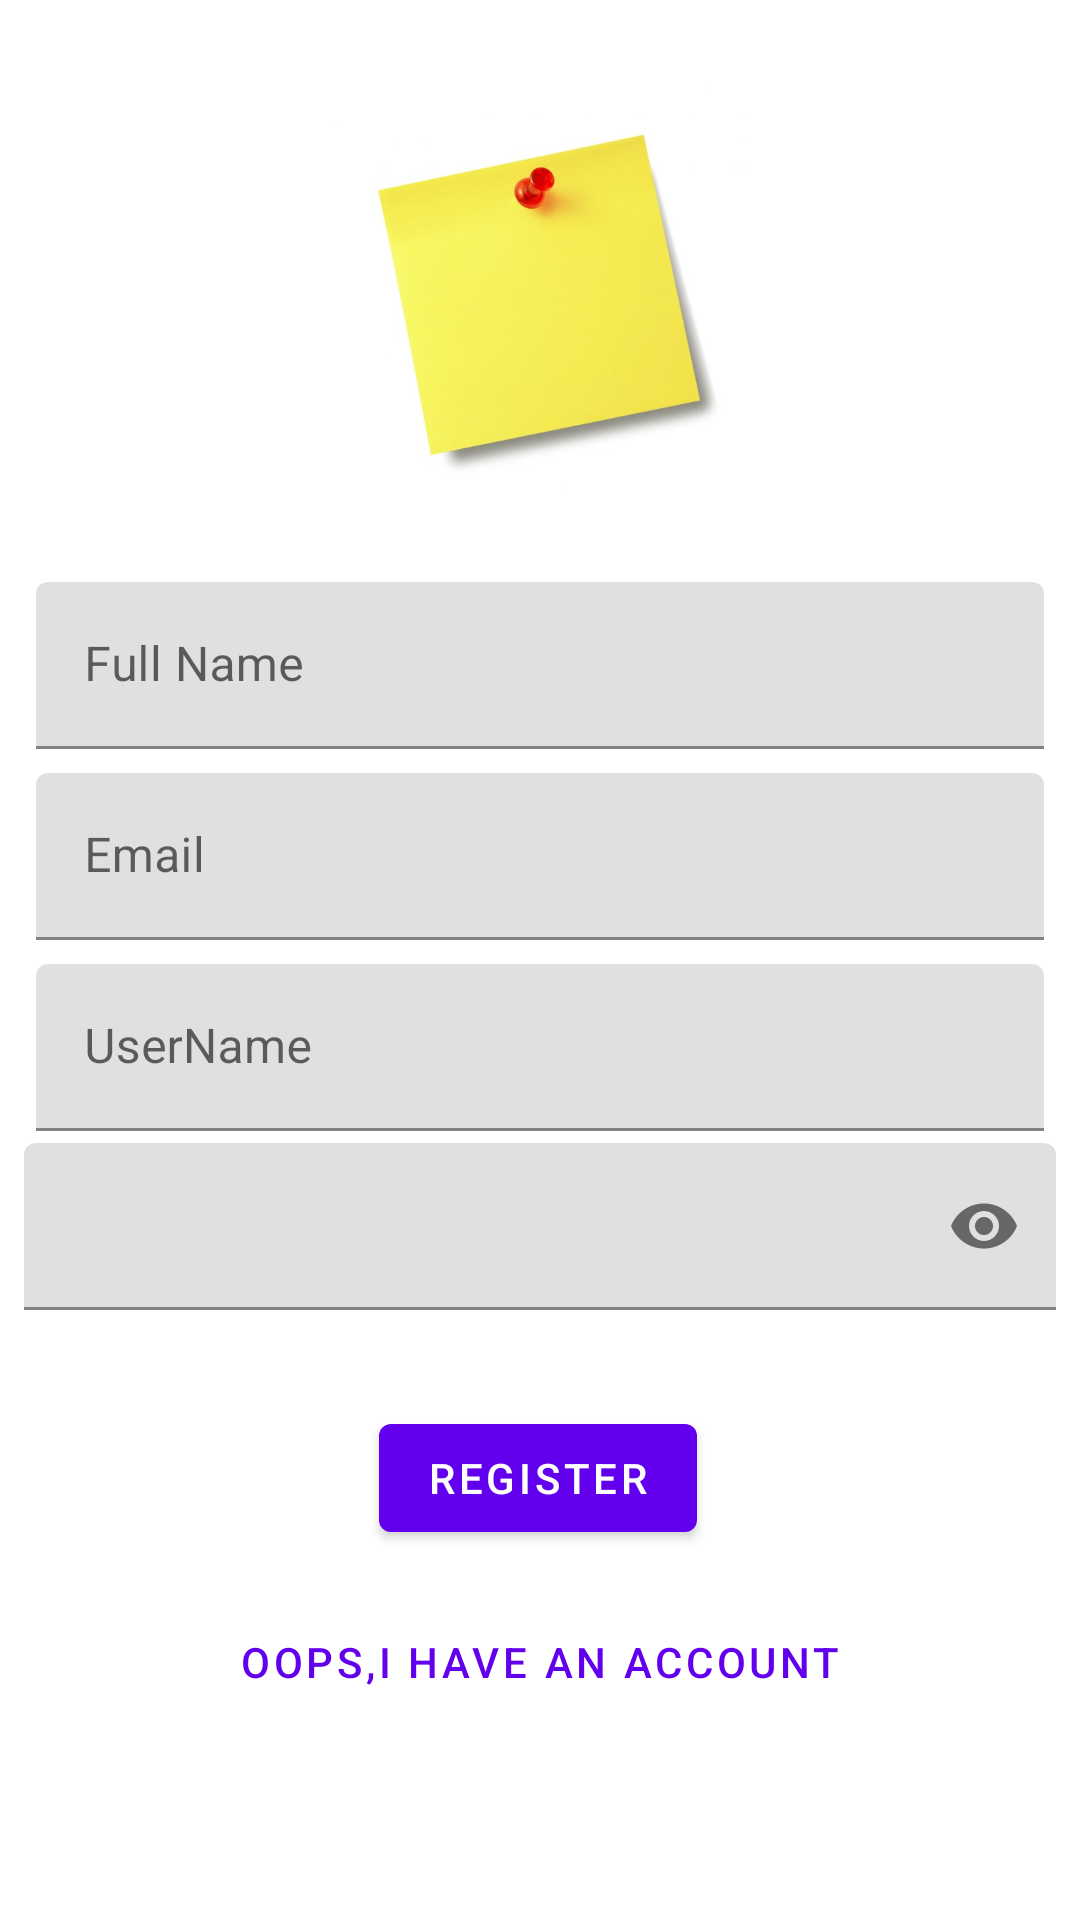

Screen size 1080×1920. Icon name, then its box in pixels as (x1, y1, x2, y2):
notepicture: (377, 134, 714, 466)
